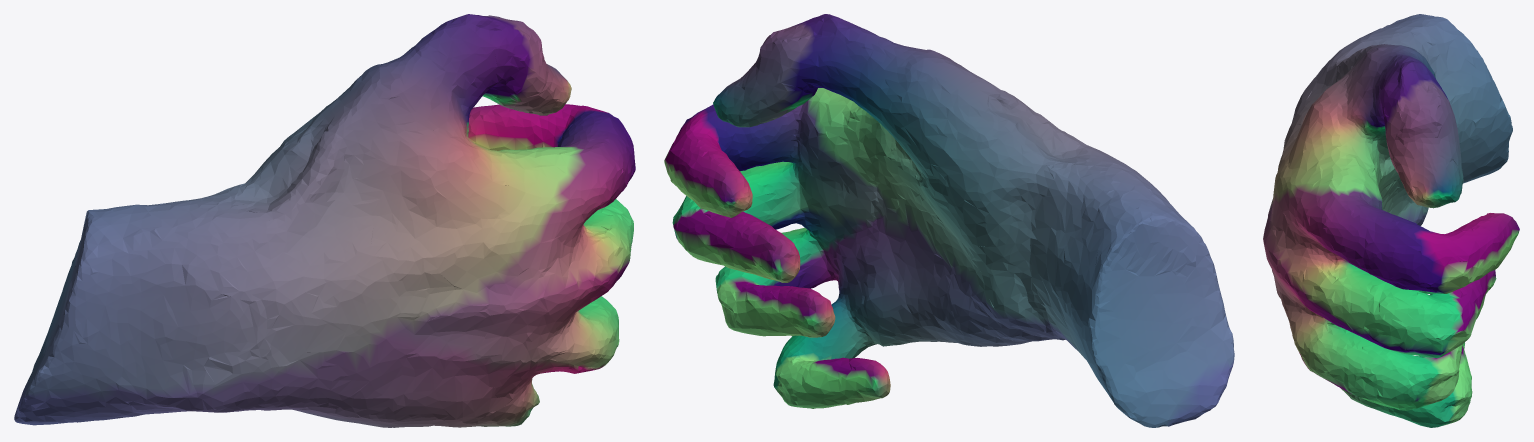
Rendered from hand-8.off.obj.
The picture shows the model from 3 angles, left to right: view 1: azimuth 30°, elevation 25°; view 2: azimuth 150°, elevation 25°; view 3: azimuth 270°, elevation 25°; orthographic projection. The views are drawn at different scales.
Bounding box in the file's own units: 1.48 × 0.9703 × 0.6416.
